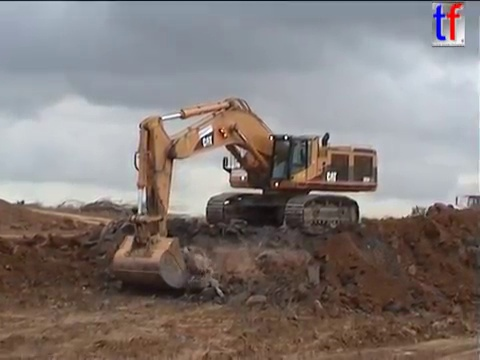excavator: (109, 94, 380, 293)
motor grader: (403, 205, 427, 223)
truck: (451, 193, 480, 221)
